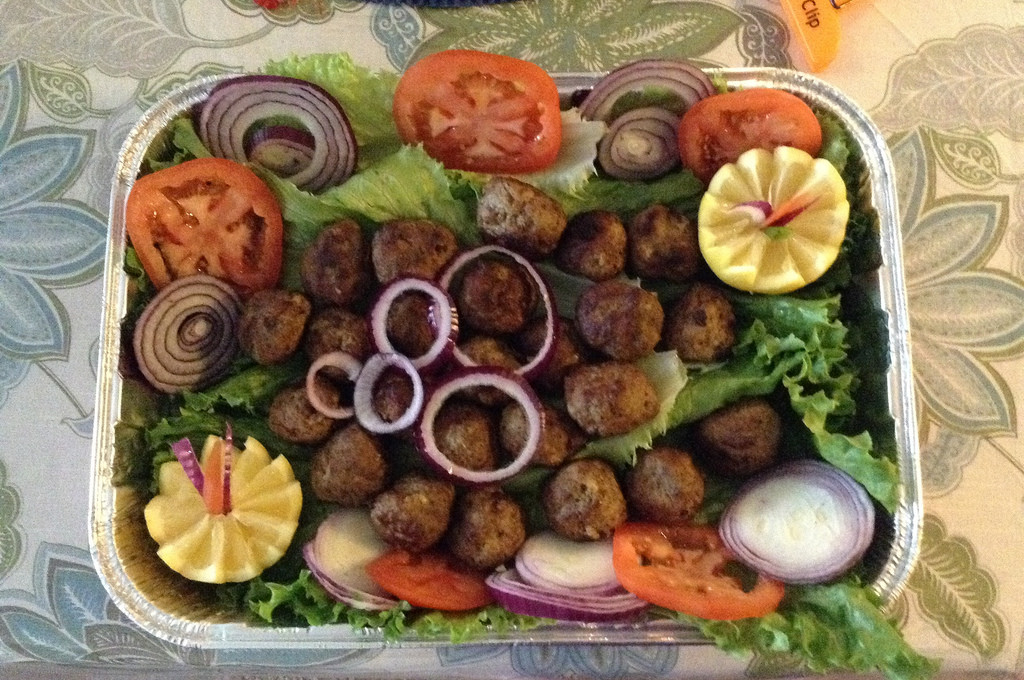meatballs: (272, 205, 738, 521)
